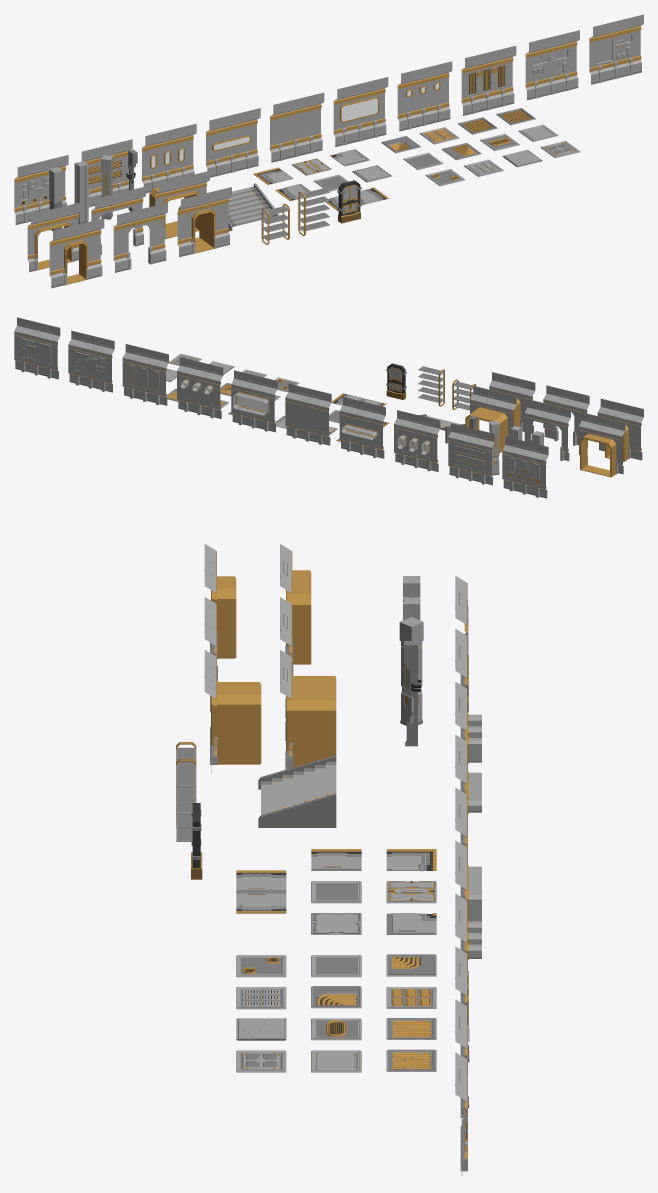
The model's file is sci-fi_map_units.glb.
3 views of the same model, one above another, from view 1: azimuth 30°, elevation 25°; view 2: azimuth 150°, elevation 25°; view 3: azimuth 270°, elevation 25° (orthographic). The views are drawn at different scales.
Visible parts, largest first — view 1: Window_Wall_SideA, SmallWindows_Wall_SideA, Wall_2, Wall_4, Wall_1, Wall_Empty, LongWindow_Wall_SideA, DoorSingleLong_Wall_SideA, ThreeWindows_Wall_SideA, DoorSingle_Wall_SideA, DoorSingle_Wall_SideB, Wall_3 (+28 smaller); view 2: Wall_3, Wall_Empty, Wall_5, Wall_4, LongWindow_Wall_SideA, Wall_2, Wall_1, Window_Wall_SideA, SmallWindows_Wall_SideA, ThreeWindows_Wall_SideA, DoorDouble_Wall_SideA, DoorDoubleLong_Wall_SideA (+9 smaller); view 3: DoorDoubleLong_Wall_SideA, Staircase, DoorSingleLong_Wall_SideA, DoorDouble_Wall_SideA, DoorSingle_Wall_SideA, FloorTile_Double, Column_3, Props_Shelf_Tall, Window_Wall_SideA, ThreeWindows_Wall_SideA, LongWindow_Wall_SideA, SmallWindows_Wall_SideA (+20 smaller).
Boxes of the visible parts, x1,y1,x2,y2 form: Window_Wall_SideA: (333,77,388,146); SmallWindows_Wall_SideA: (397,61,452,131); Wall_2: (461,46,516,115); Wall_4: (525,30,579,100); Wall_1: (589,14,643,84); Wall_Empty: (270,92,324,162); LongWindow_Wall_SideA: (206,108,260,177); DoorSingleLong_Wall_SideA: (177,187,231,257); ThreeWindows_Wall_SideA: (142,123,196,193); DoorSingle_Wall_SideA: (49,218,104,288); DoorSingle_Wall_SideB: (113,202,167,272); Wall_3: (14,155,68,224); Wall_3: (502,436,548,498); Wall_Empty: (285,383,331,445); Wall_5: (448,423,494,485); Wall_4: (68,330,114,392); LongWindow_Wall_SideA: (339,397,385,458); Wall_2: (122,344,168,405); Wall_1: (14,317,60,379); Window_Wall_SideA: (231,370,277,432); SmallWindows_Wall_SideA: (177,357,223,418); ThreeWindows_Wall_SideA: (394,410,440,471); DoorDouble_Wall_SideA: (579,412,625,477); DoorDoubleLong_Wall_SideA: (465,386,516,453); DoorDoubleLong_Wall_SideA: (280,650,336,769); Staircase: (258,755,336,827); DoorSingleLong_Wall_SideA: (204,650,261,772); DoorDouble_Wall_SideA: (280,544,311,664); DoorSingle_Wall_SideA: (204,544,236,659); FloorTile_Double: (236,870,286,913); Column_3: (399,617,423,725); Props_Shelf_Tall: (176,758,196,841); Window_Wall_SideA: (455,840,481,951); ThreeWindows_Wall_SideA: (455,682,481,792); LongWindow_Wall_SideA: (455,734,481,851); SmallWindows_Wall_SideA: (455,893,481,1004).
Size of the model in its own units: 52 by 4.46 by 12.21.
